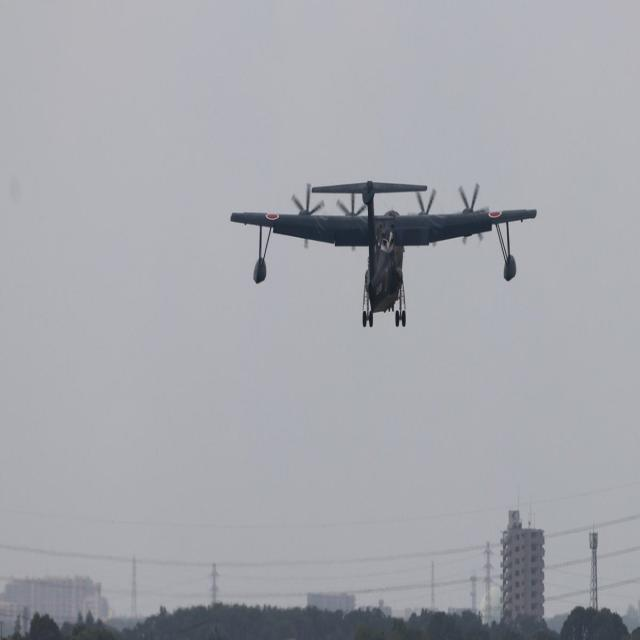MIL_Plane: (230, 185, 537, 321)
